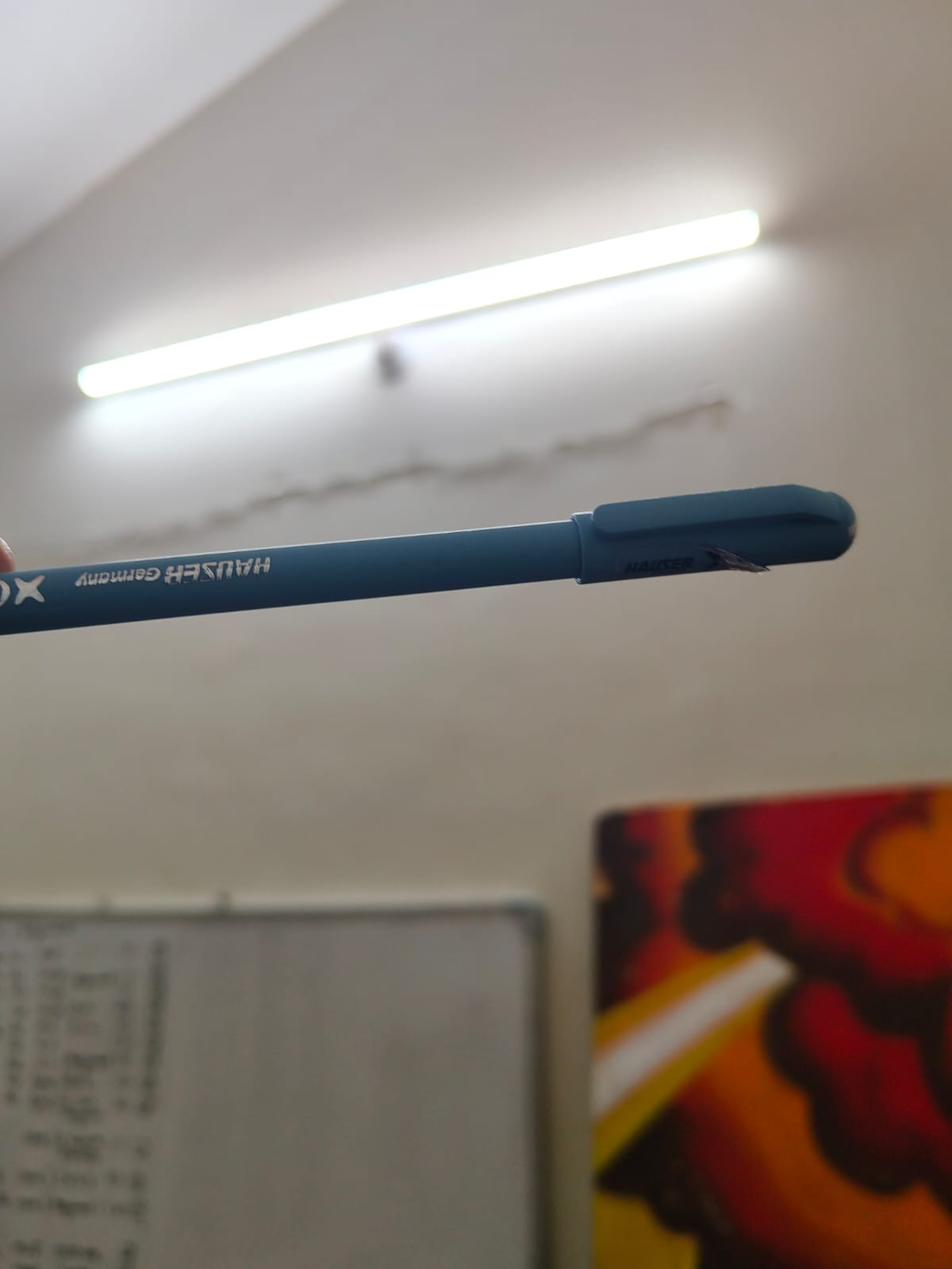pen: (0, 460, 876, 674)
